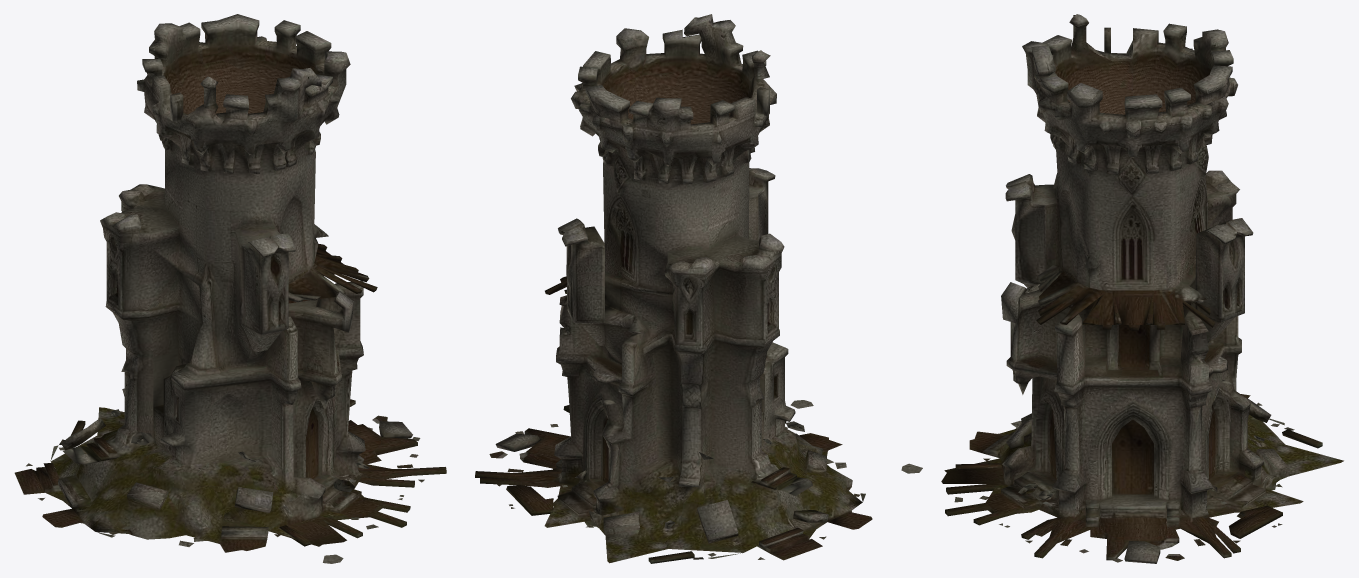
File: vorthak_rift_obelisk.glb
3 renders of one model, left to right at view 1: azimuth 30°, elevation 25°; view 2: azimuth 150°, elevation 25°; view 3: azimuth 270°, elevation 25°, orthographic. The views are drawn at different scales.
Bounding box in the file's own units: 5.27 × 6 × 5.48.
1 material, 1 textured.
